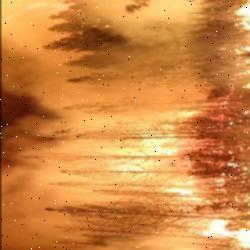fire: (70, 116, 250, 248), (216, 1, 250, 92)
